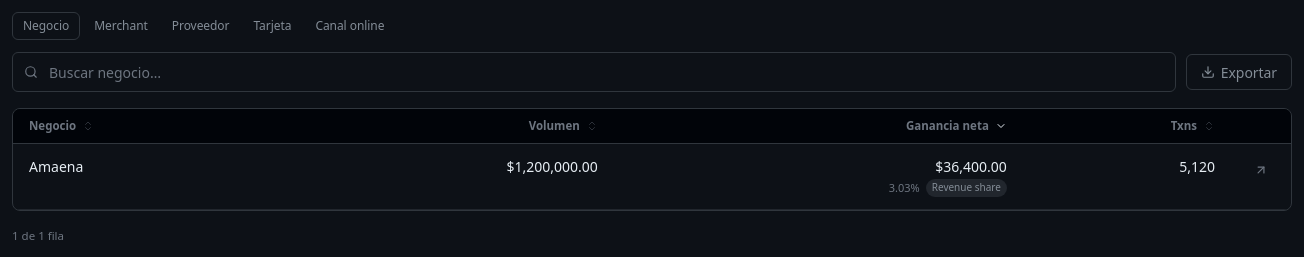
Scenario: EarningsBreakdown › renders the cells of every tab (negocio, merchant, proveedor, tarjeta, canal)
The width and height of the screenshot is (1304, 257).
Expected: the text "Amaena" is shown, [13, 144, 278, 209]
Expected: the text "3.03%" is shown, [889, 180, 920, 196]
Click the button "Merchant".
click(121, 26)  # box [84, 12, 158, 40]
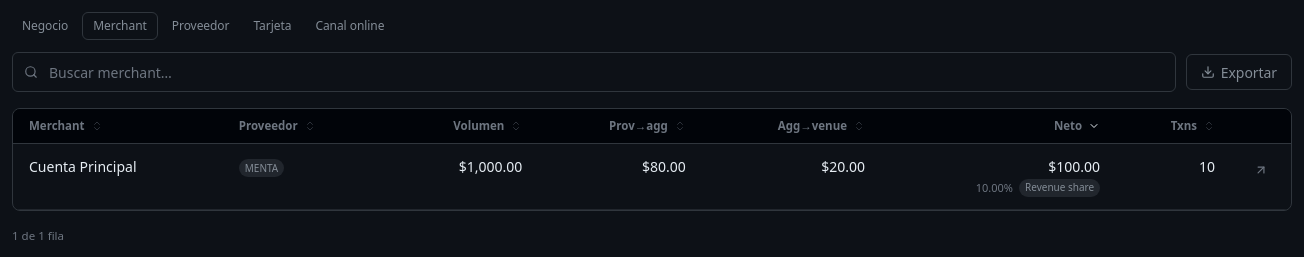
Expected: the text "Cuenta Principal" is shown, [13, 144, 223, 209]
Click the 1st button "Proveedor".
click(201, 26)  # box [162, 12, 240, 40]
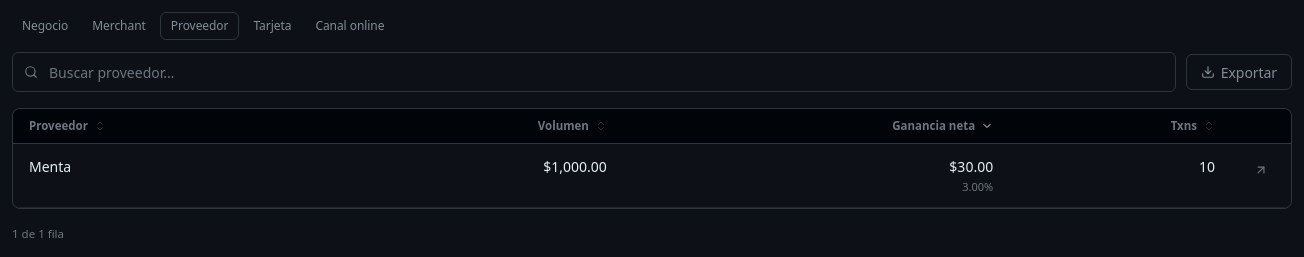
Expected: the text "Menta" is shown, [13, 144, 329, 208]
Click the button "Tarjeta".
click(272, 26)  # box [244, 12, 301, 40]
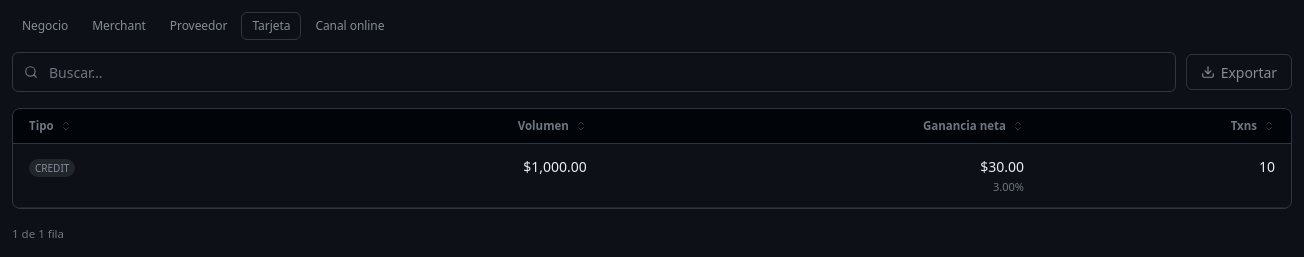
Expected: the text "CREDIT" is shown, [29, 159, 75, 177]
Click the button "Canal online".
click(350, 26)  # box [305, 12, 394, 40]
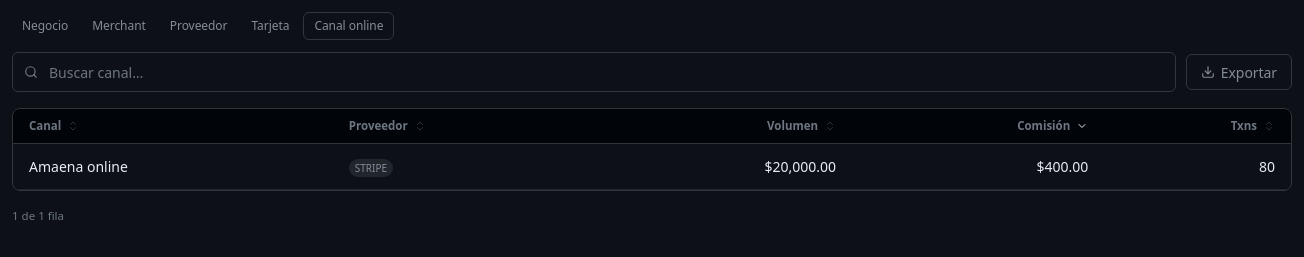
Expected: the text "Amaena online" is shown, [13, 144, 333, 190]
